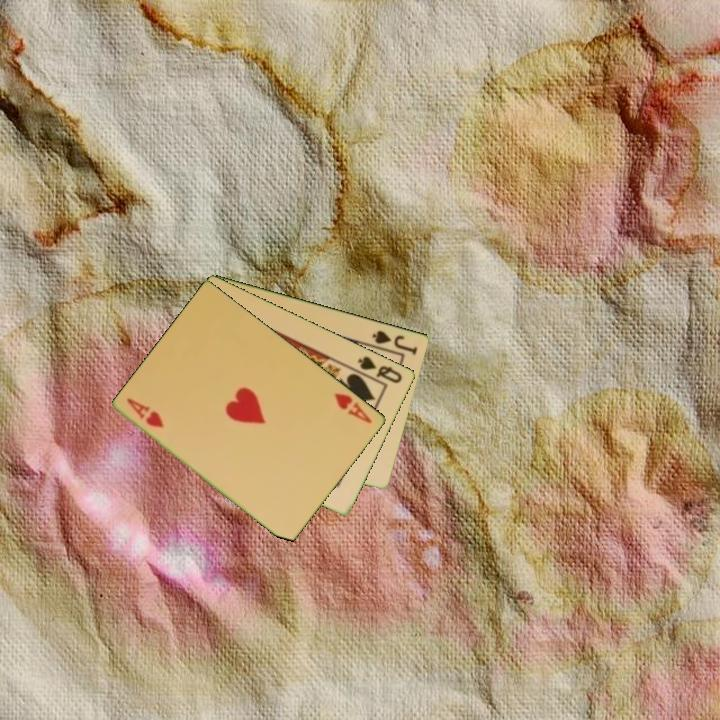Ah: (123, 394, 168, 431), (331, 389, 375, 426)
Js: (369, 327, 421, 357)
Qs: (354, 352, 405, 386)
